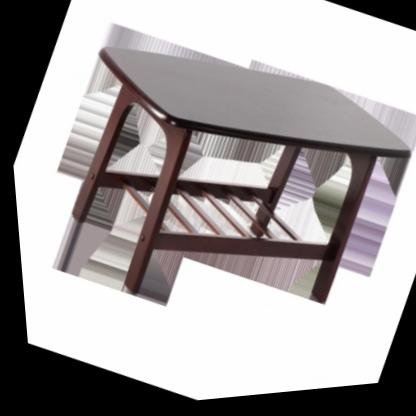Table: (1, 0, 416, 407)
